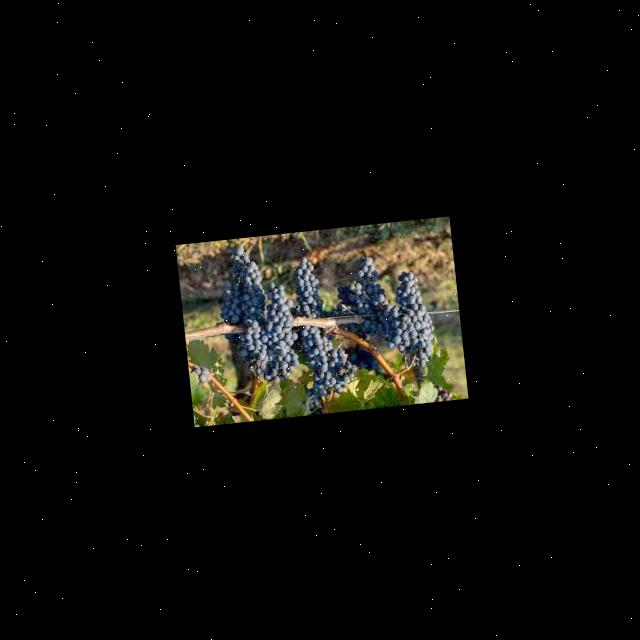grape: (236, 276, 310, 386), (370, 266, 433, 364)
